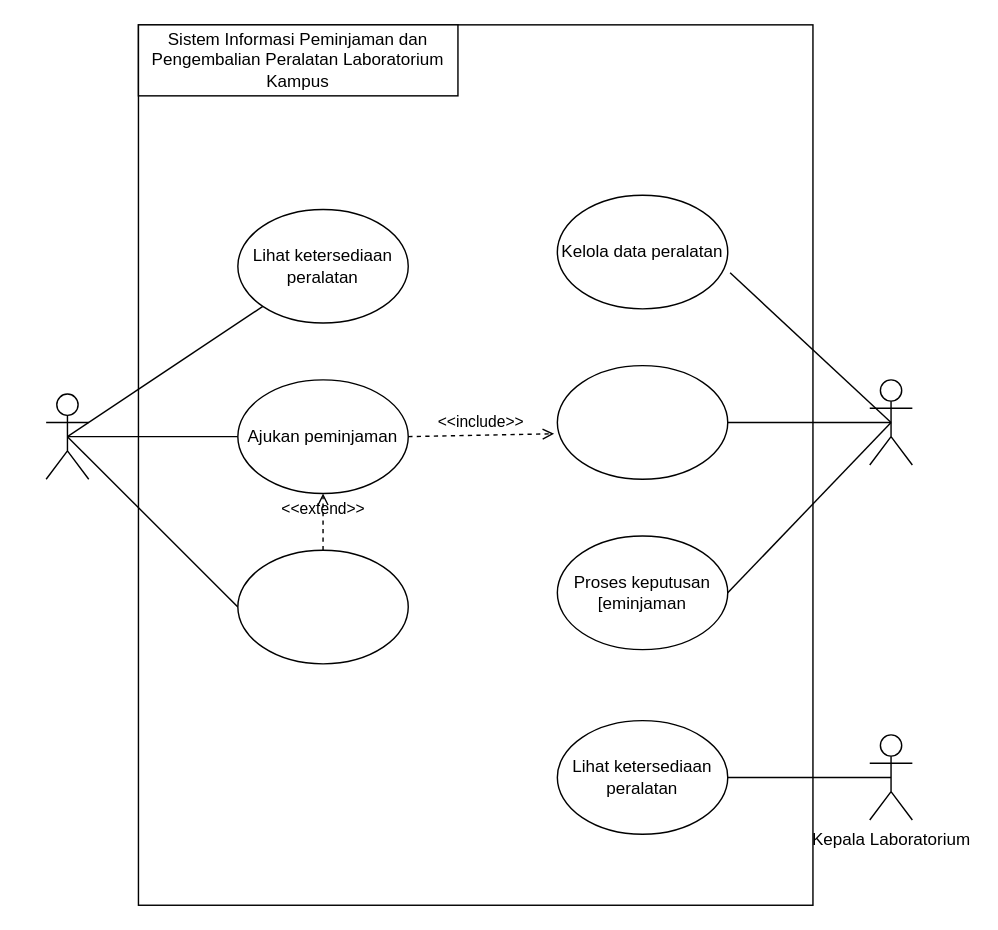
Some shapes in this 998 by 930 pixel diagram are drawn without their labels. Here are the shapes that lost their labels. From the top down, the box of each, then its label:
(45, 393, 89, 479): Mahasiswa
(556, 364, 728, 479): Periksa ketersediaan
(868, 378, 912, 465): Petugas Laboratorium
(236, 549, 408, 664): Cetak bukti pengajuan
